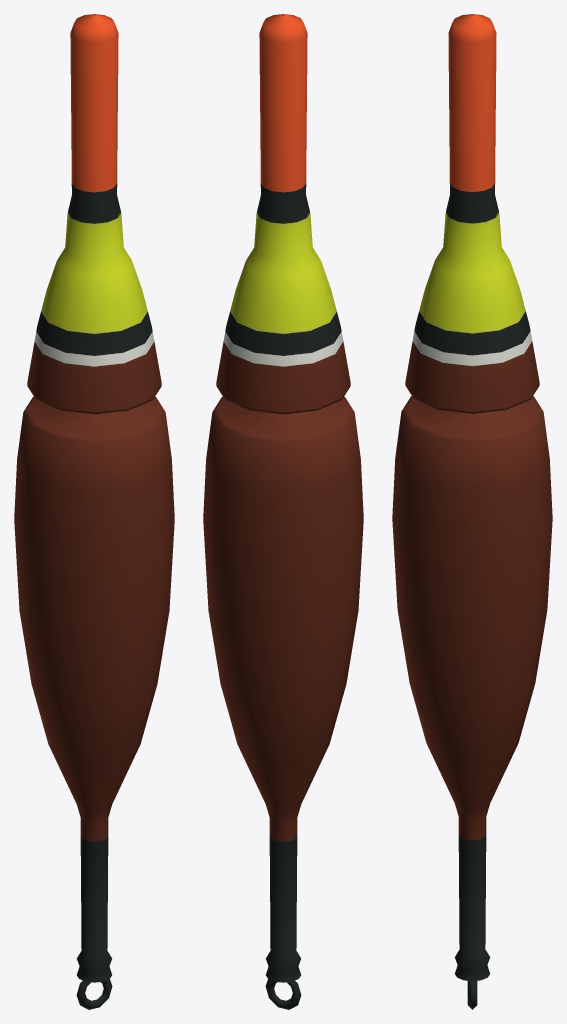
The picture shows the model from 3 angles, left to right: view 1: azimuth 30°, elevation 25°; view 2: azimuth 150°, elevation 25°; view 3: azimuth 270°, elevation 25°; orthographic projection.
Visible parts, largest first — view 1: F46_Float; view 2: F46_Float; view 3: F46_Float.
Boxes of the visible parts, <box> form: F46_Float: <box>14,14,174,1009</box>; F46_Float: <box>203,14,363,1009</box>; F46_Float: <box>392,14,552,1009</box>.
Bounding box in the file's own units: 0.022 × 0.15 × 0.022.
Materials: 1 (1 with a texture image).
